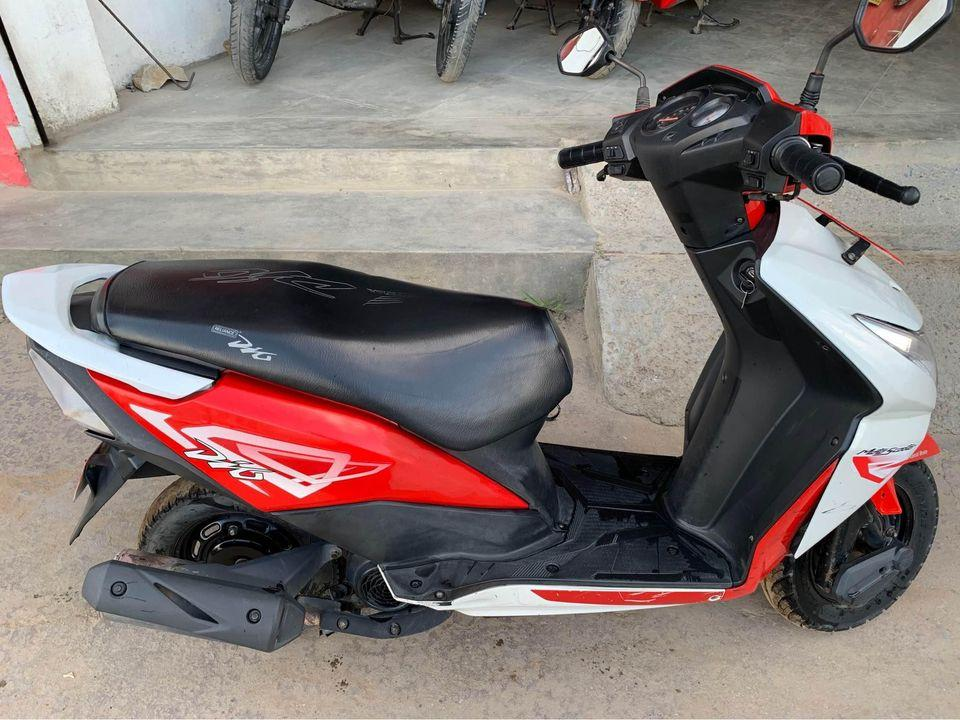scooter: (0, 2, 942, 659)
